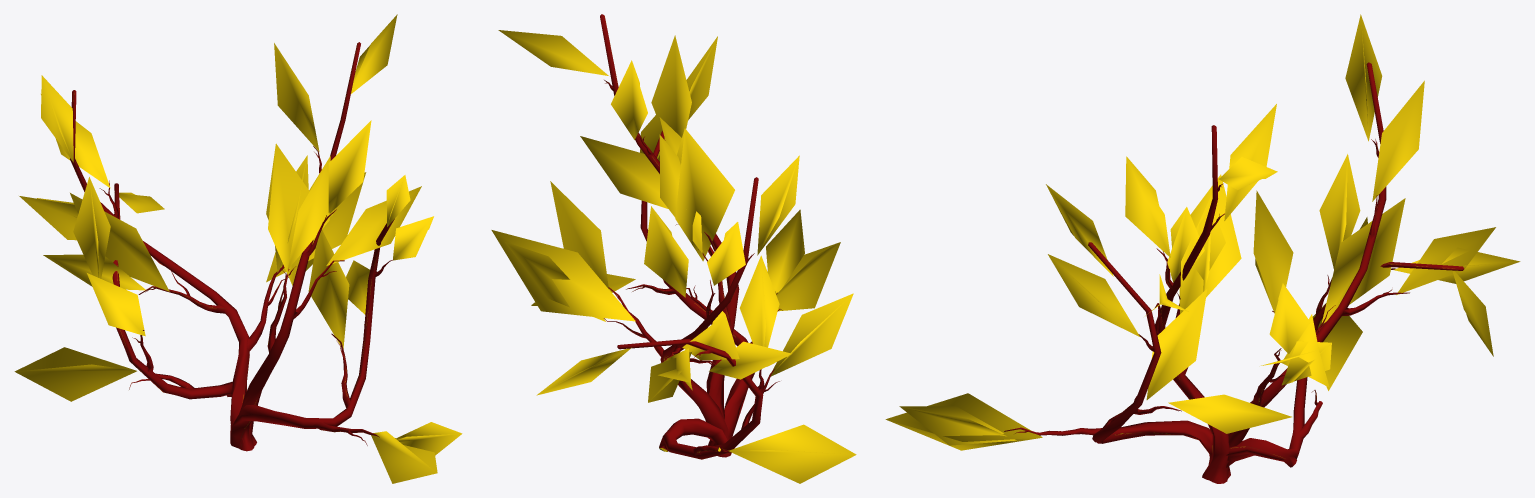
Rendered from abstracttree1.obj.
The picture shows the model from 3 angles, left to right: view 1: azimuth 30°, elevation 25°; view 2: azimuth 150°, elevation 25°; view 3: azimuth 270°, elevation 25°; orthographic projection. The views are drawn at different scales.
Parts seen in each view (by area): view 1: tree; view 2: tree; view 3: tree.
Part boxes in pixels (<box>): tree: <box>14,14,462,483</box>; tree: <box>491,14,856,483</box>; tree: <box>885,14,1520,483</box>.
Bounding box in the file's own units: 283 × 284 × 396.
Materials: 1 (1 with a texture image).
